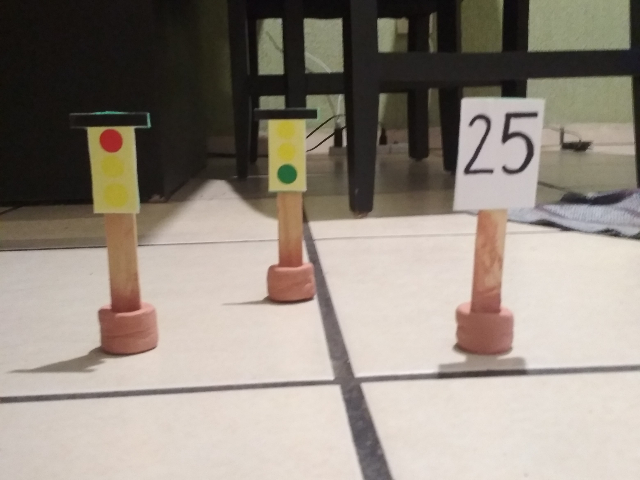Green: (247, 103, 321, 196)
Limit 25: (443, 90, 553, 215)
Red: (66, 106, 153, 217)
